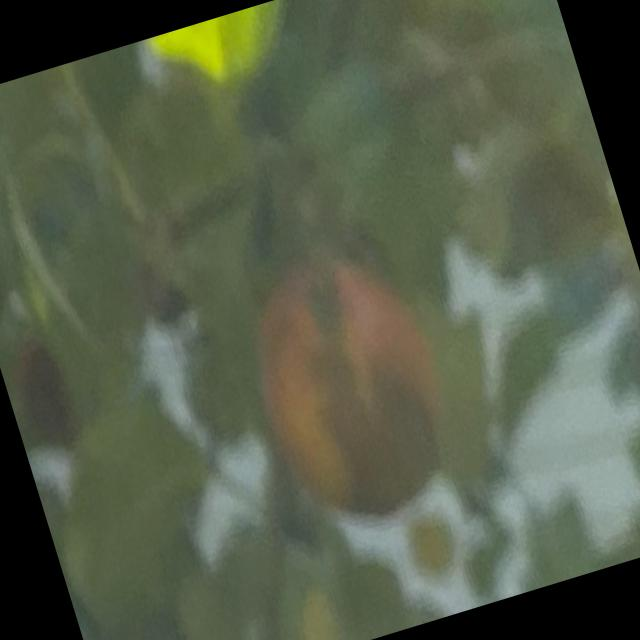Apples: (234, 234, 466, 536)
